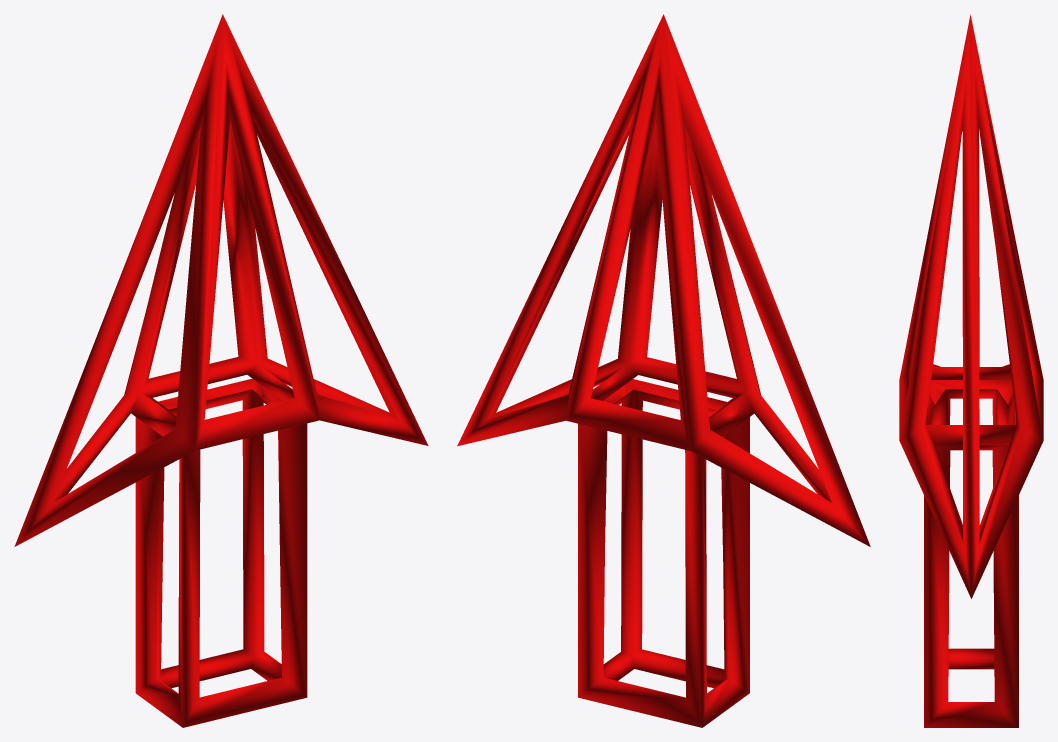
File: cursor.fbx
The picture shows the model from 3 angles, left to right: view 1: azimuth 30°, elevation 25°; view 2: azimuth 150°, elevation 25°; view 3: azimuth 270°, elevation 25°; orthographic projection.
Visible parts, largest first — view 1: Cube; view 2: Cube; view 3: Cube.
Part boxes in pixels (box(x1,y1,x2,y2)): Cube: box(14, 14, 428, 727); Cube: box(457, 14, 870, 727); Cube: box(899, 14, 1043, 727).
Size of the model in its own units: 666 by 1047 by 200.
